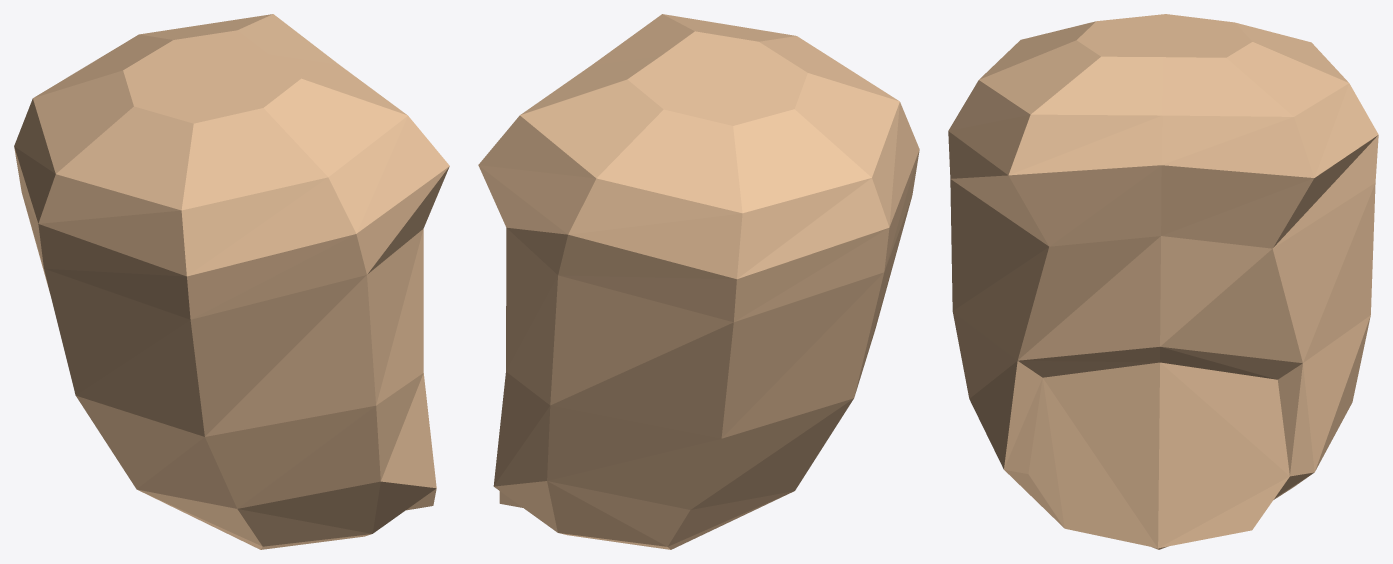
Rendered from LFing12_mesh.dae.
3 renders of one model, left to right at view 1: azimuth 30°, elevation 25°; view 2: azimuth 150°, elevation 25°; view 3: azimuth 270°, elevation 25°, orthographic. The views are drawn at different scales.
Visible parts, largest first — view 1: LFing12; view 2: LFing12; view 3: LFing12.
Boxes of the visible parts, <box> form: LFing12: <box>14,14,449,549</box>; LFing12: <box>478,14,919,549</box>; LFing12: <box>948,14,1378,549</box>.
Size of the model in its own units: 0.0145 by 0.0185 by 0.0157.
